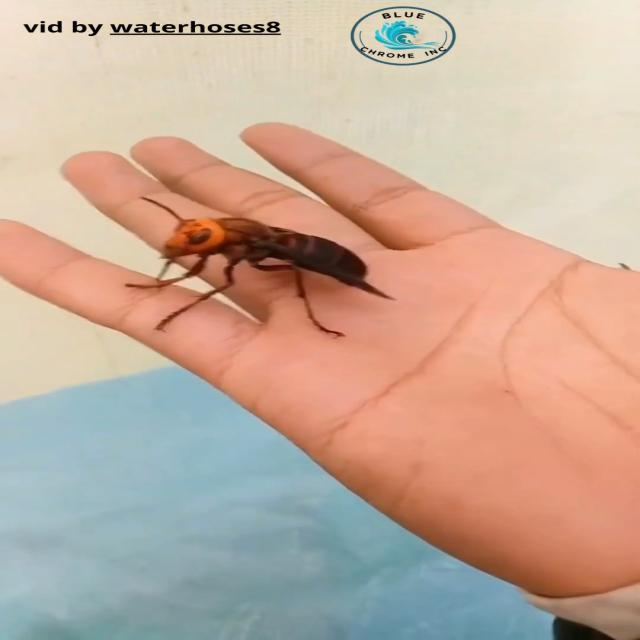Hornets: (123, 195, 400, 339)
